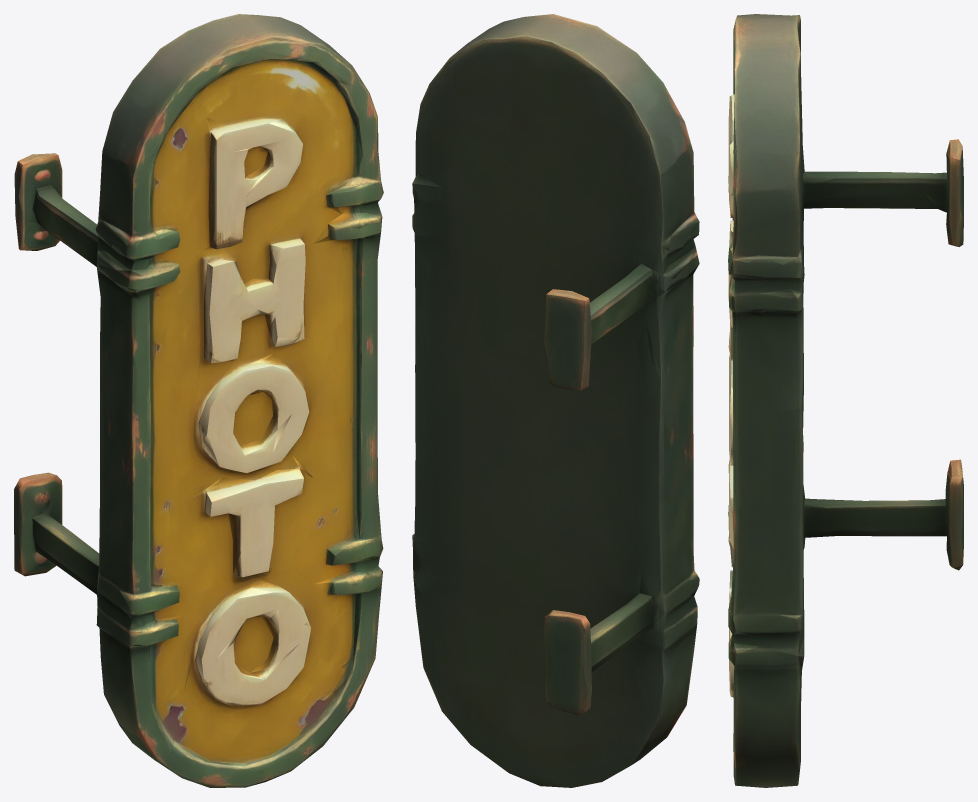
File: 10b-blade-photo.glb
3 renders of one model, left to right at view 1: azimuth 30°, elevation 25°; view 2: azimuth 150°, elevation 25°; view 3: azimuth 270°, elevation 25°, orthographic.
Parts seen in each view (by area): view 1: SM_BladePhoto; view 2: SM_BladePhoto; view 3: SM_BladePhoto.
Part boxes in pixels (x1=…): SM_BladePhoto: x1=14, y1=14, x2=383, y2=787; SM_BladePhoto: x1=412, y1=14, x2=699, y2=787; SM_BladePhoto: x1=728, y1=14, x2=963, y2=787.
Size of the model in its own units: 0.6253 by 1.73 by 0.495.
1 material, 1 textured.
